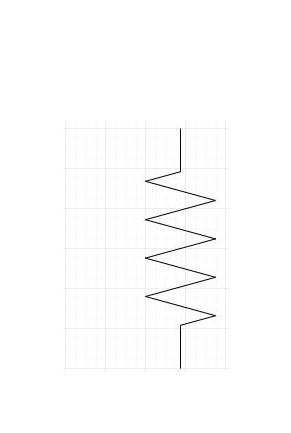resistor: (136, 114, 219, 365)
